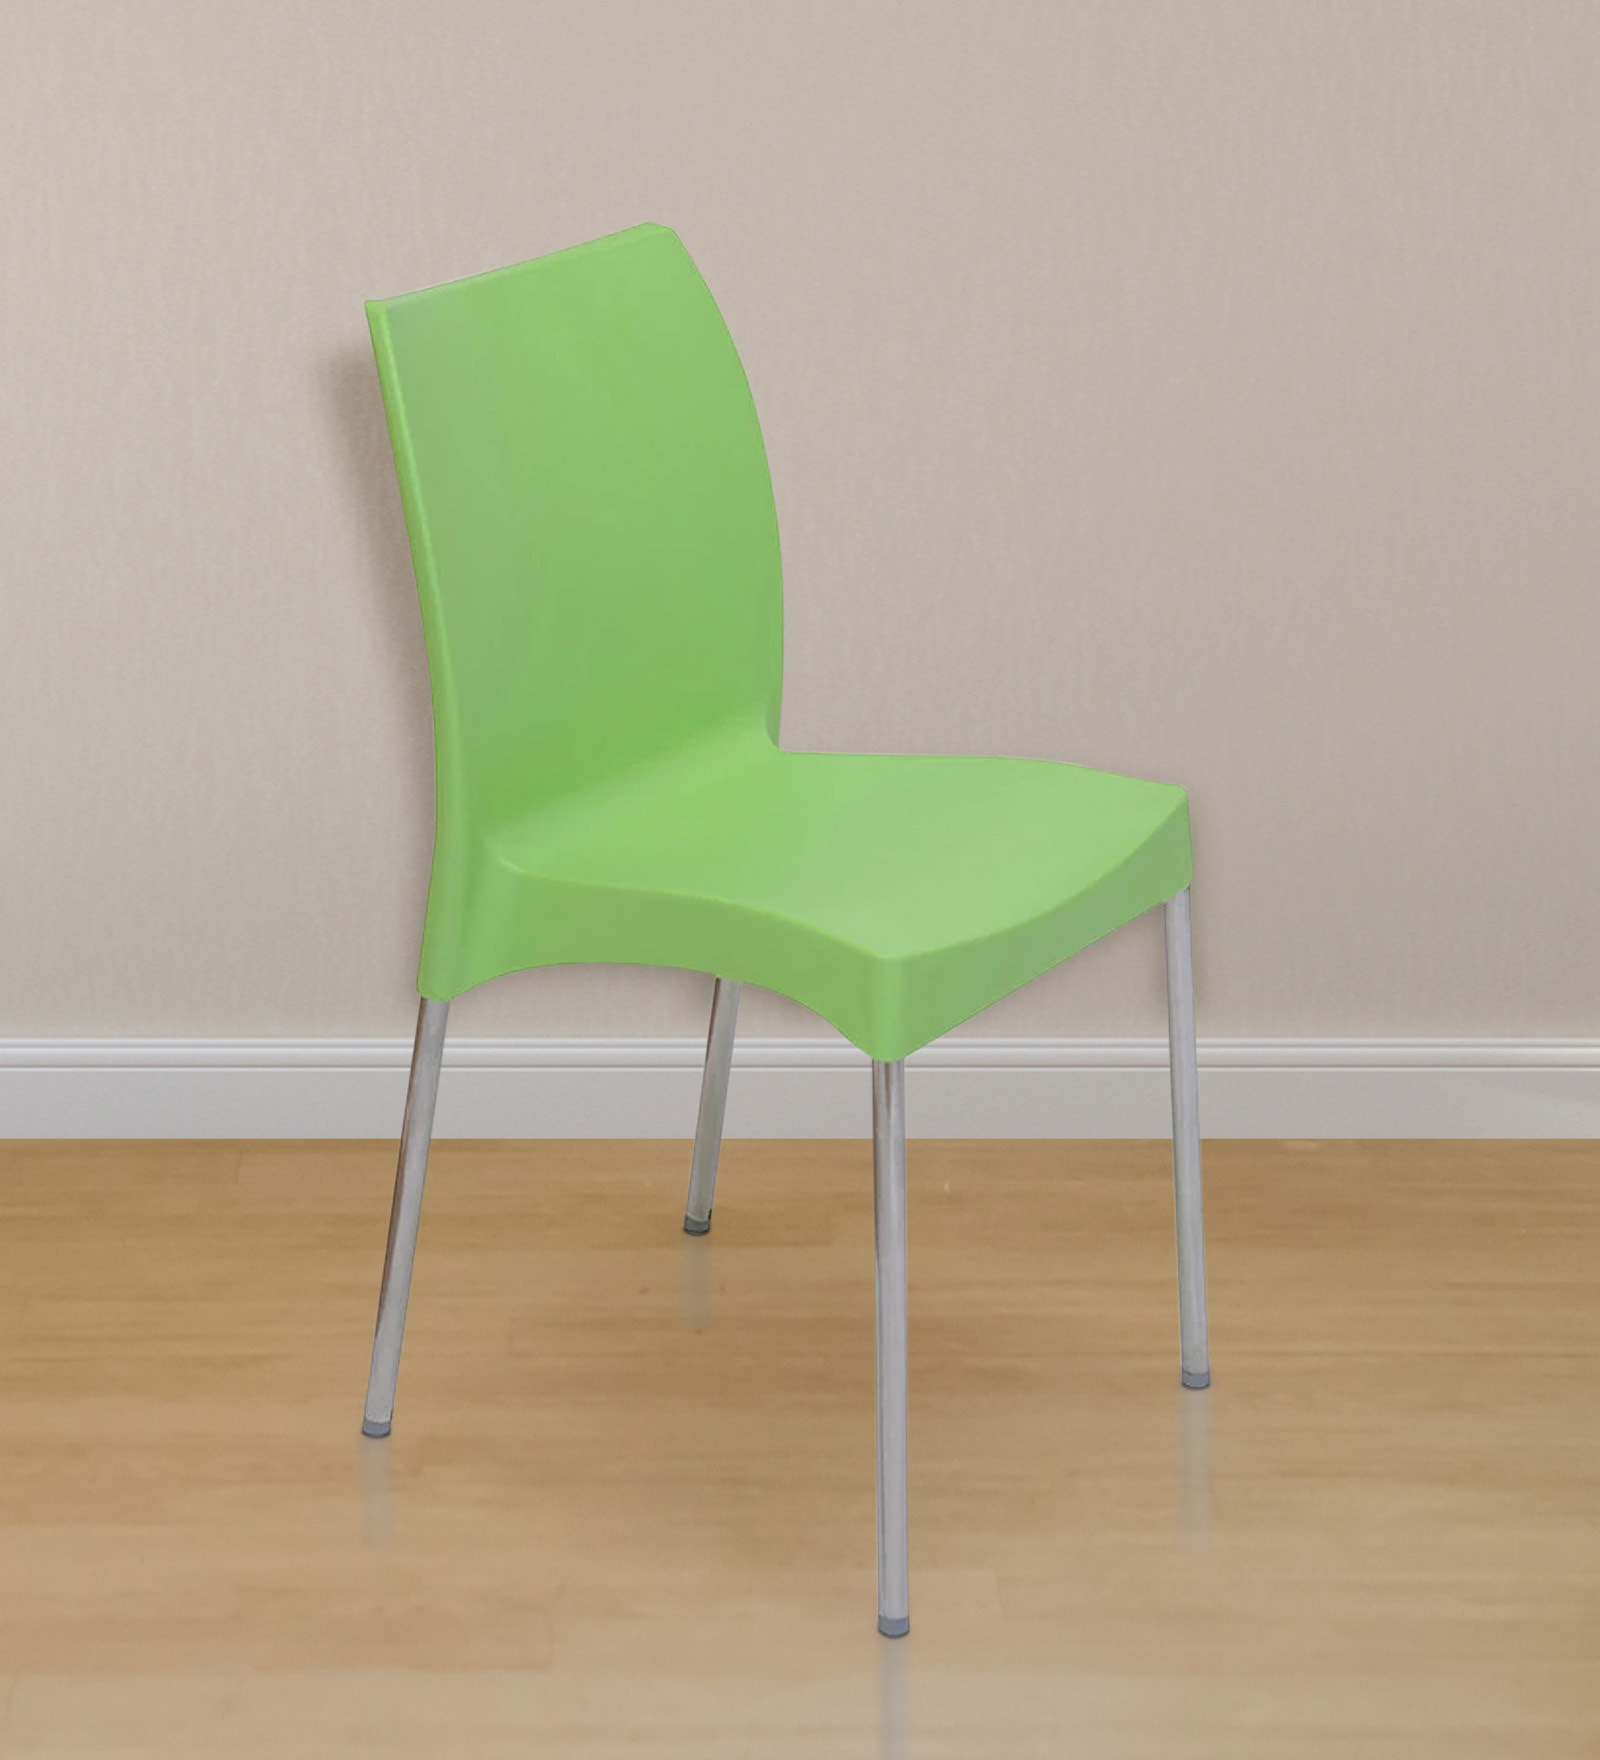Novella 07 Chair in Green Colour by Nilkamal: (346, 219, 1225, 1643)
